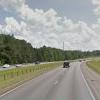Tree: (0, 23, 53, 66)
